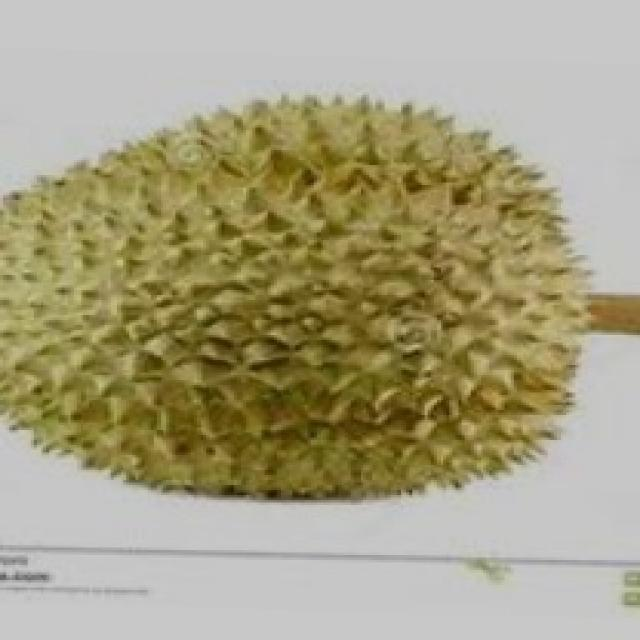fruit: (264, 147, 640, 547), (0, 145, 354, 547)
